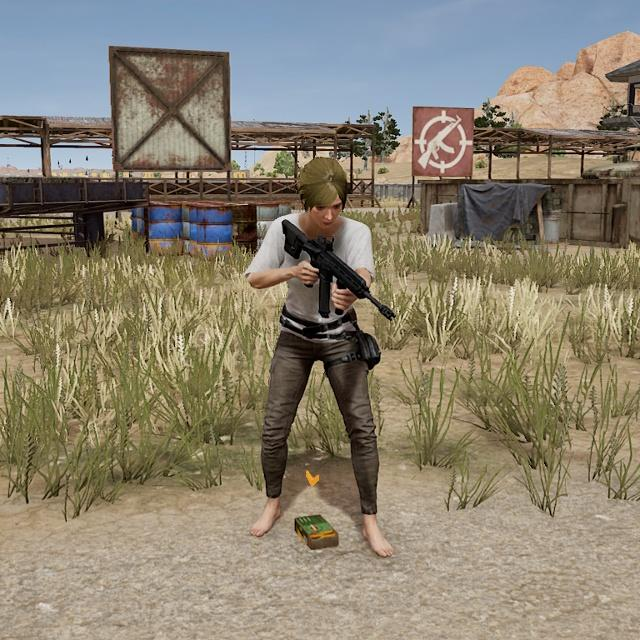head: (296, 154, 349, 228)
people: (242, 150, 400, 563)
